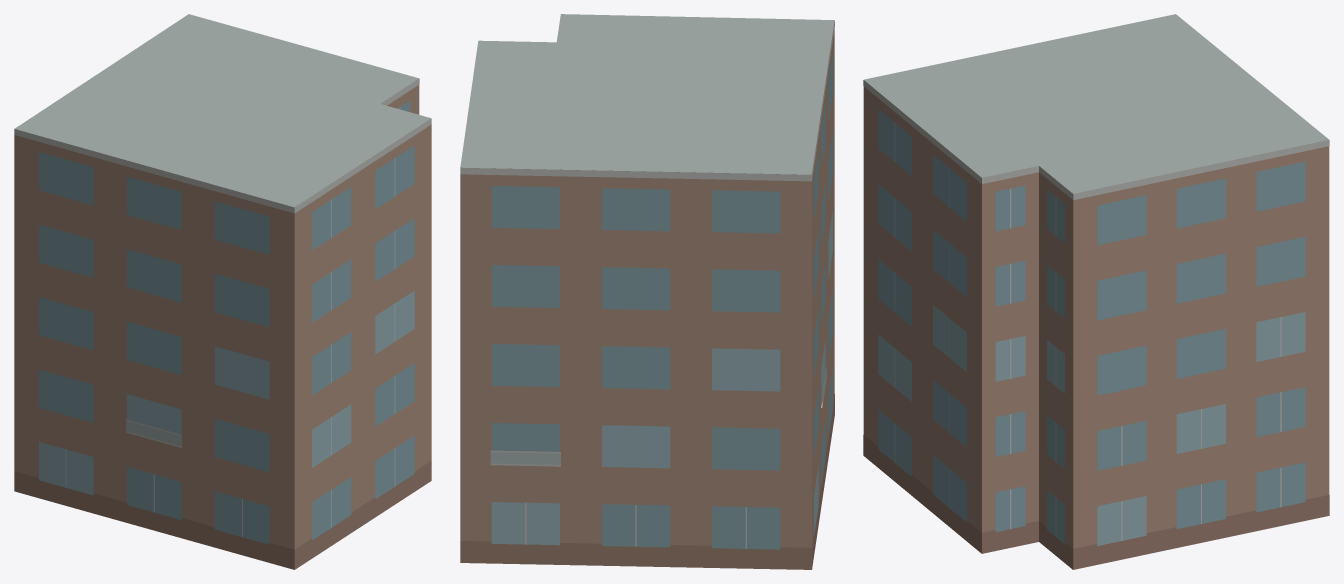
File: survey-upis-32769296.glb
3 views of the same model, side by side, from view 1: azimuth 30°, elevation 25°; view 2: azimuth 150°, elevation 25°; view 3: azimuth 270°, elevation 25° (orthographic). The views are drawn at different scales.
Visible parts, largest first — view 1: survey-upis-32769296.tmp; view 2: survey-upis-32769296.tmp; view 3: survey-upis-32769296.tmp.
Boxes of the visible parts, x1,y1,x2,y2 form: survey-upis-32769296.tmp: [14, 14, 431, 569]; survey-upis-32769296.tmp: [460, 14, 834, 569]; survey-upis-32769296.tmp: [863, 14, 1329, 569].
Size of the model in its own units: 15 by 14.6 by 16.41.
